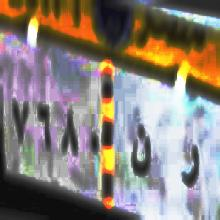0: (88, 126, 99, 165)
6: (36, 97, 54, 160)
7: (10, 92, 30, 155)
8: (60, 108, 79, 164)
noon: (128, 116, 153, 188)
raa: (181, 131, 200, 199)
